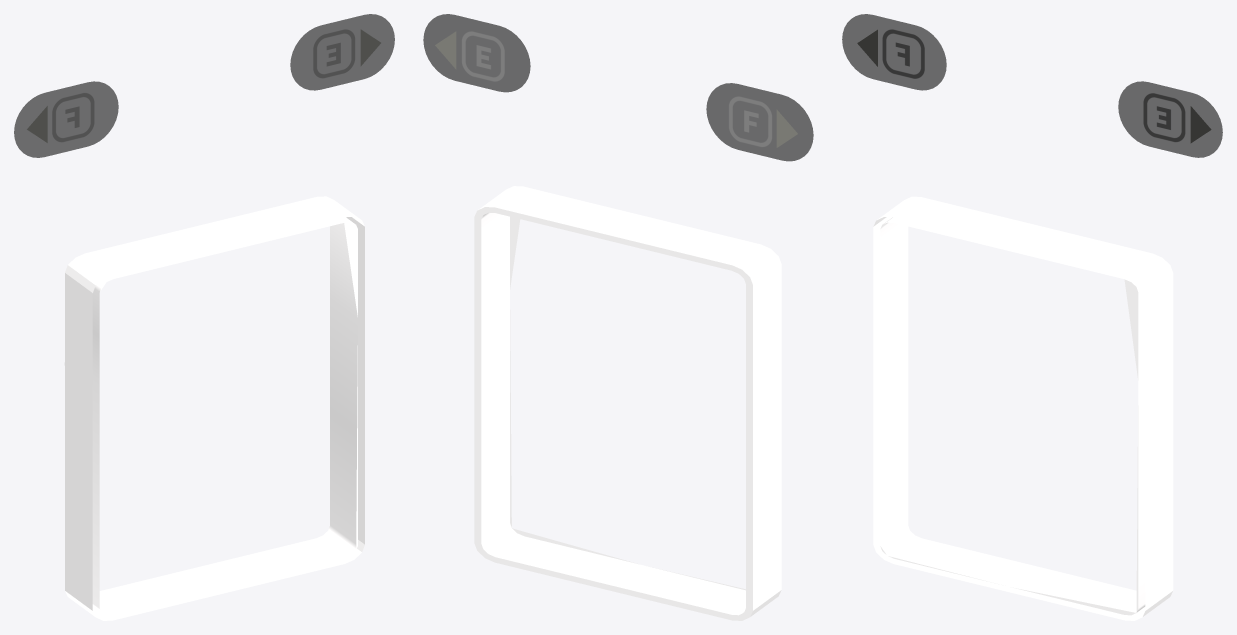
The model's file is wardrobe.glb.
3 renders of one model, left to right at view 1: azimuth 30°, elevation 25°; view 2: azimuth 150°, elevation 25°; view 3: azimuth 330°, elevation 25°, orthographic. The views are drawn at different scales.
Visible parts, largest first — view 1: container_frame, Cylinder.006, instructions; view 2: container_frame, Cylinder.006, instructions; view 3: container_frame, Cylinder.006, instructions.
Boxes of the visible parts, left/top/right/bottom form: container_frame: left=64, top=196, right=364, bottom=620; Cylinder.006: left=14, top=14, right=394, bottom=157; instructions: left=27, top=29, right=380, bottom=142; container_frame: left=474, top=186, right=781, bottom=620; Cylinder.006: left=423, top=14, right=813, bottom=161; instructions: left=435, top=31, right=797, bottom=147; container_frame: left=873, top=196, right=1173, bottom=620; Cylinder.006: left=842, top=14, right=1222, bottom=157; instructions: left=857, top=29, right=1210, bottom=142.
Size of the model in its own units: 1.47 by 1.92 by 0.1865.
Materials: 3 (1 with a texture image).
